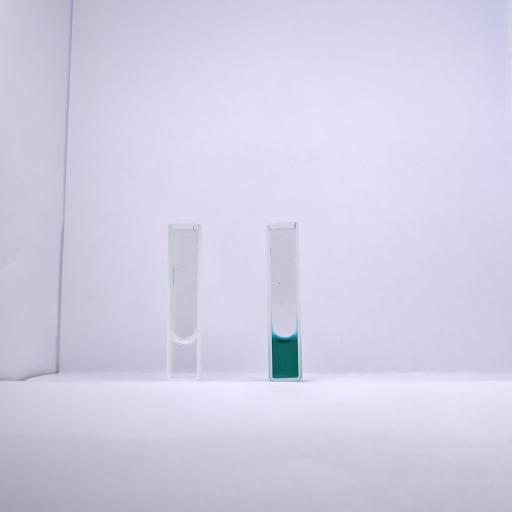cuvette: (262, 219, 304, 385), (165, 220, 203, 384)
liquid: (170, 336, 196, 378), (272, 335, 298, 377)
